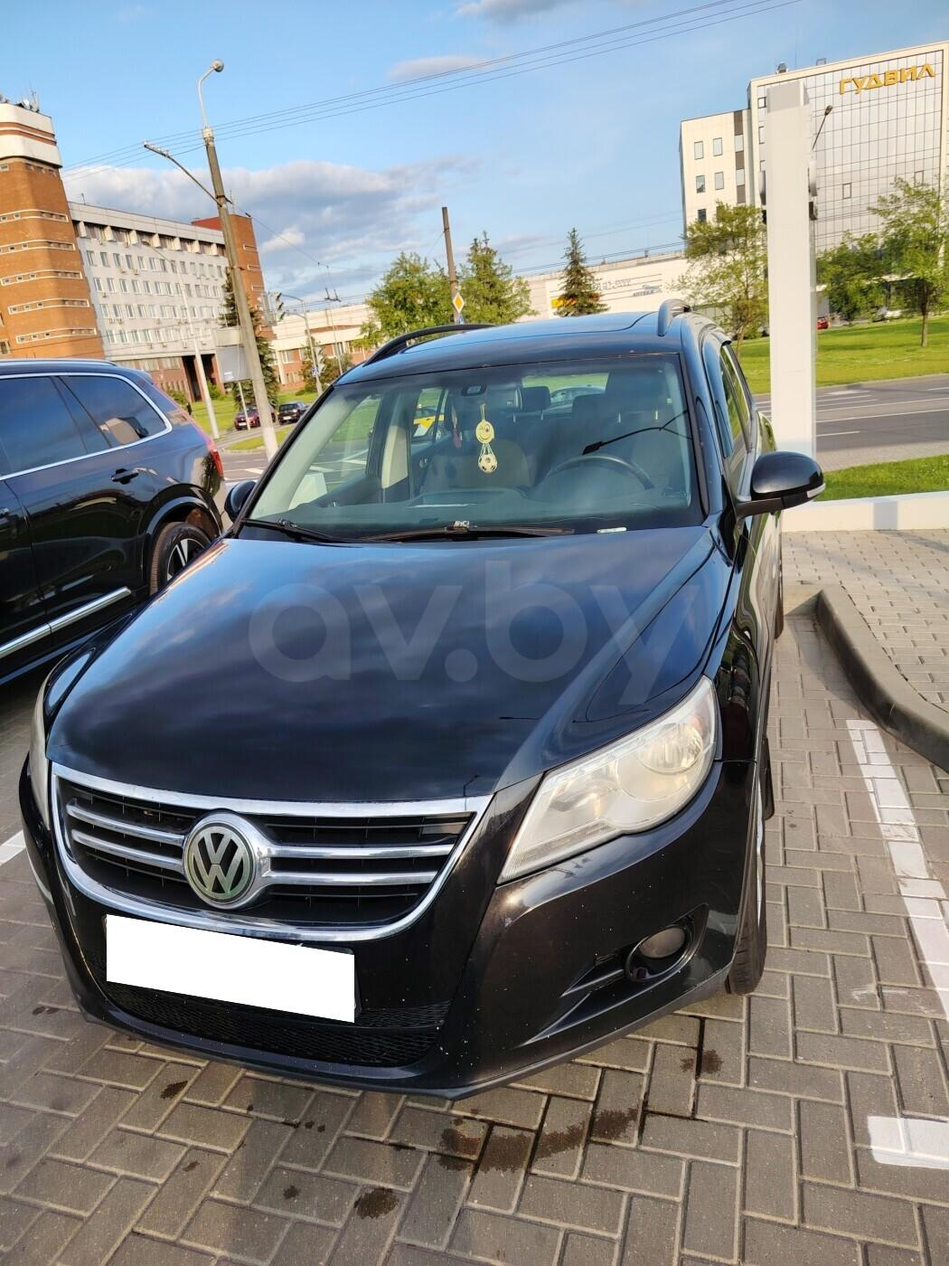Tiguan_2007-2011: (13, 307, 824, 1096)
